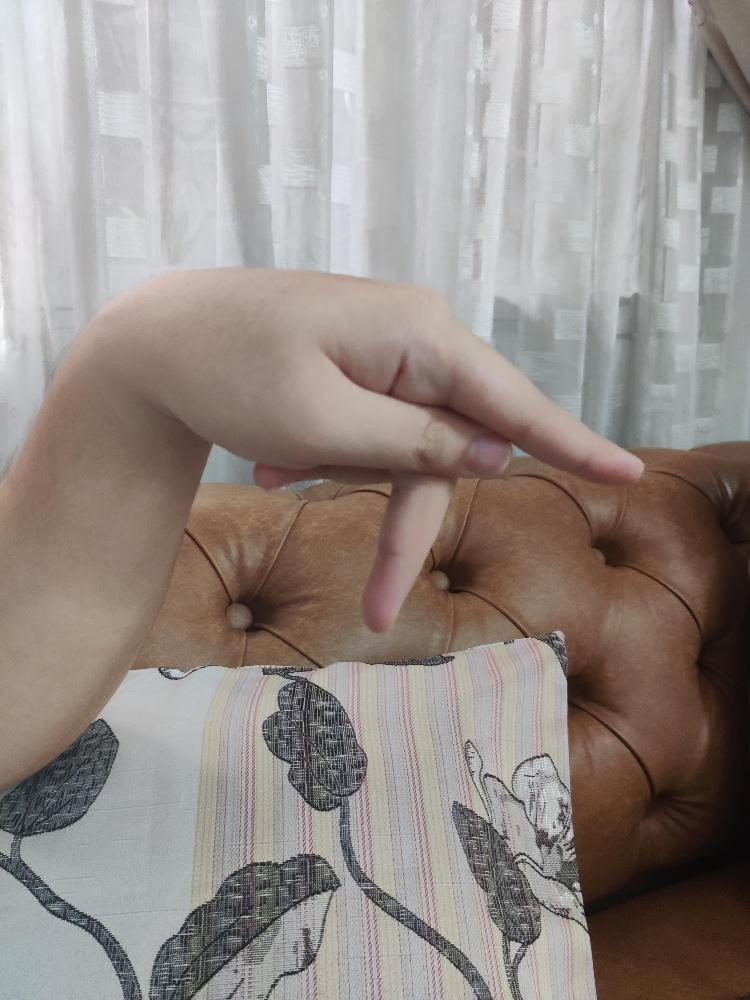p: (189, 261, 645, 636)
